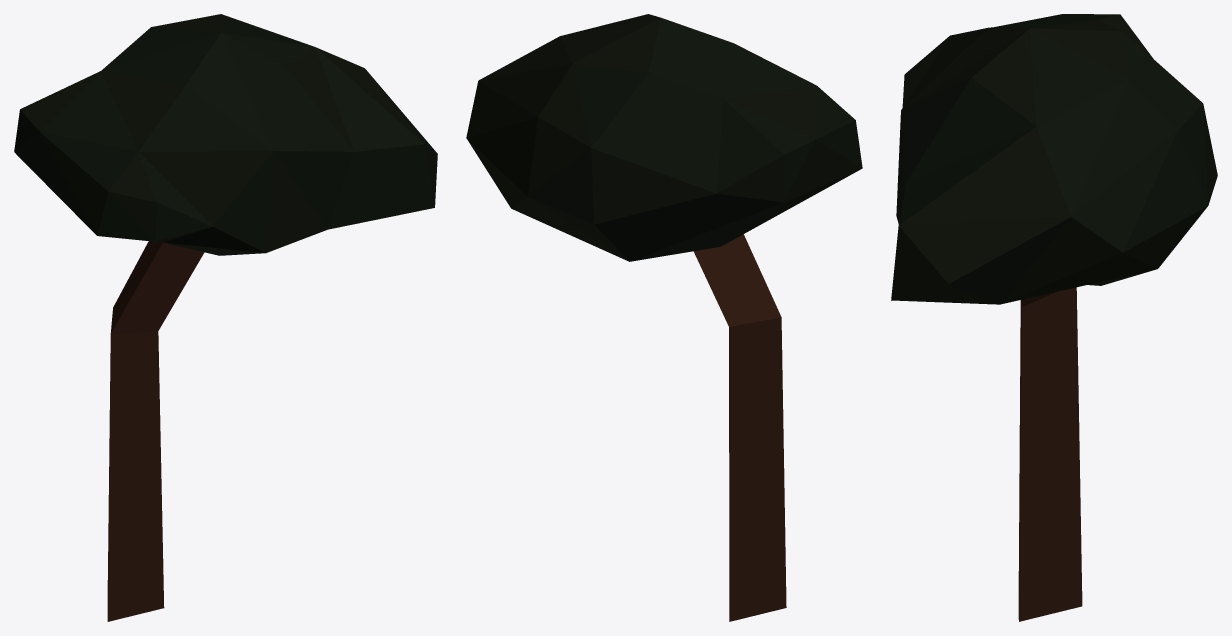
The model's file is CityPlant1.fbx.glb.
3 renders of one model, left to right at view 1: azimuth 30°, elevation 25°; view 2: azimuth 150°, elevation 25°; view 3: azimuth 270°, elevation 25°, orthographic. The views are drawn at different scales.
Parts seen in each view (by area): view 1: CityPlant1; view 2: CityPlant1; view 3: CityPlant1.
Part boxes in pixels (<box>): CityPlant1: <box>14,14,437,621</box>; CityPlant1: <box>466,14,862,621</box>; CityPlant1: <box>891,14,1217,621</box>.
Size of the model in its own units: 39.52 by 60.47 by 28.53.
